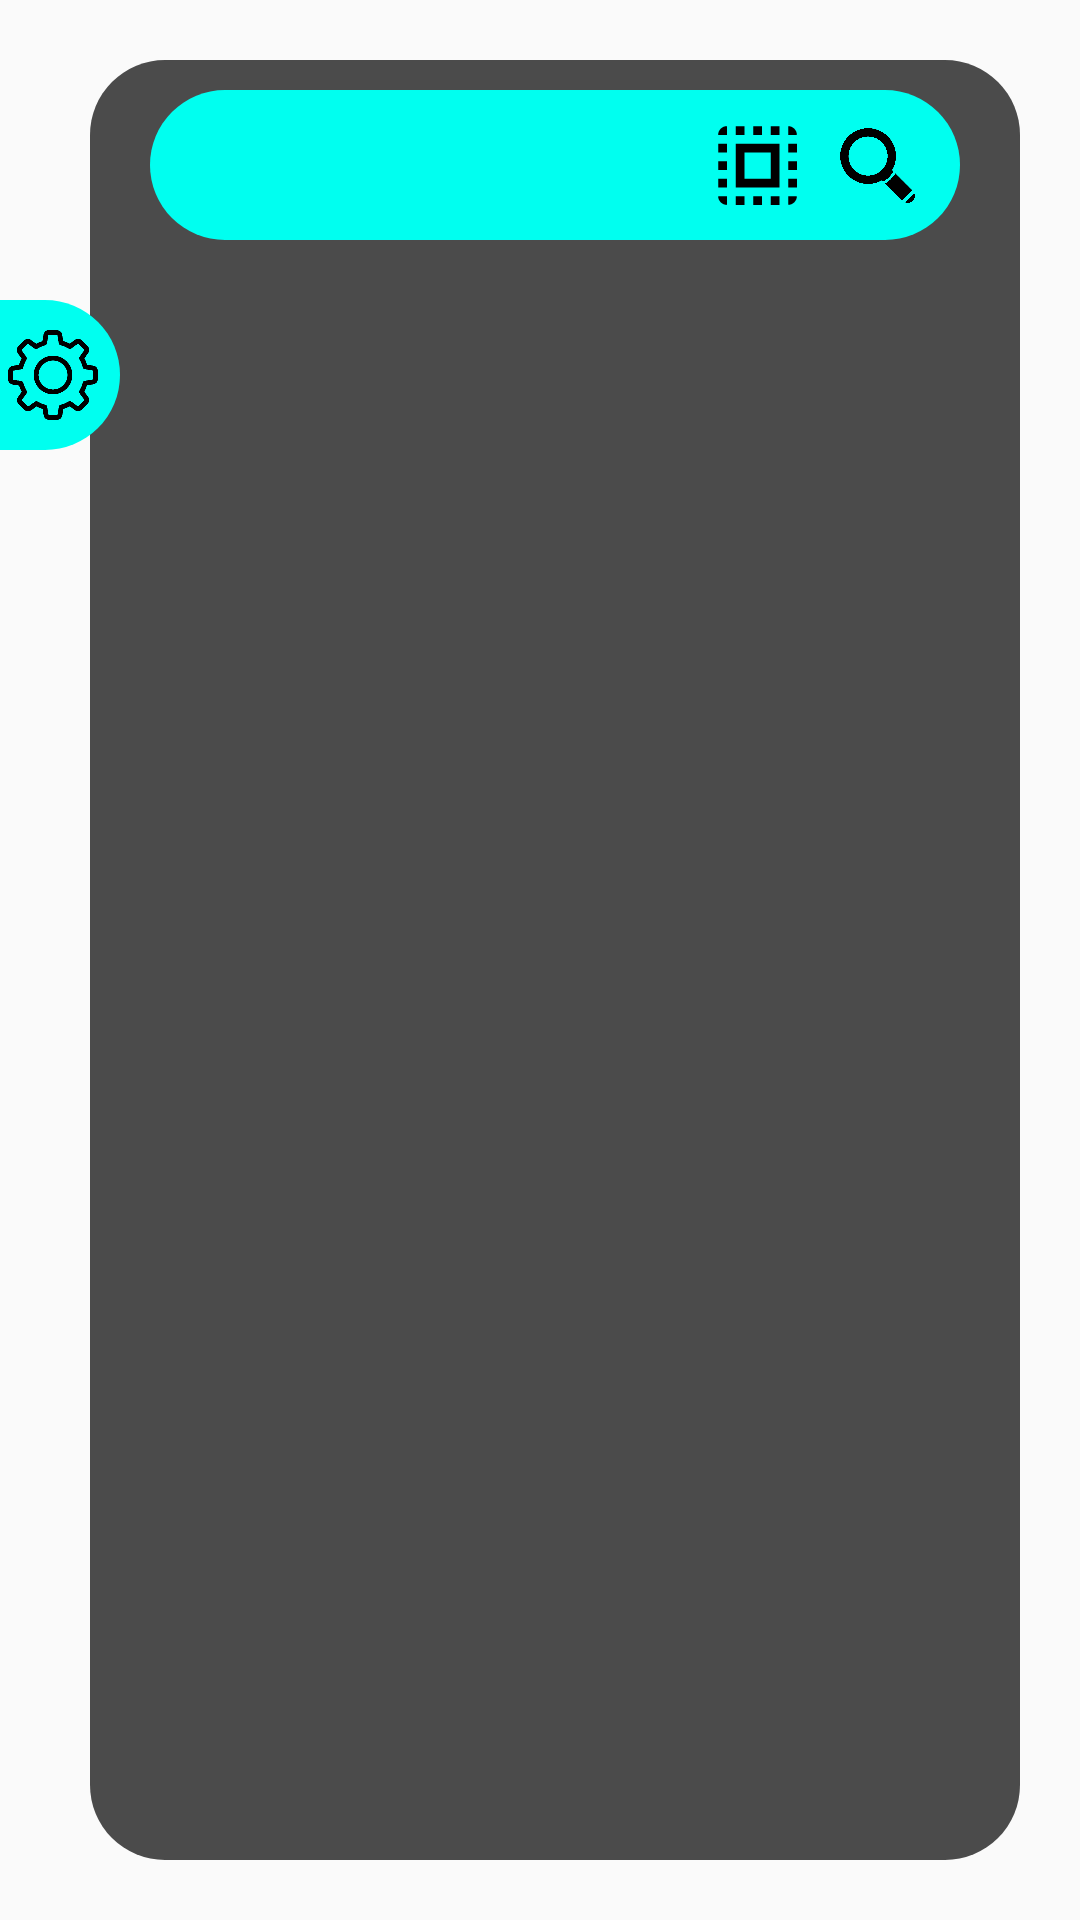

Icons on this 1080*1920 Android screen, each with the point to tap as (x,y):
gear: (53,375)
searrch: (877,165)
